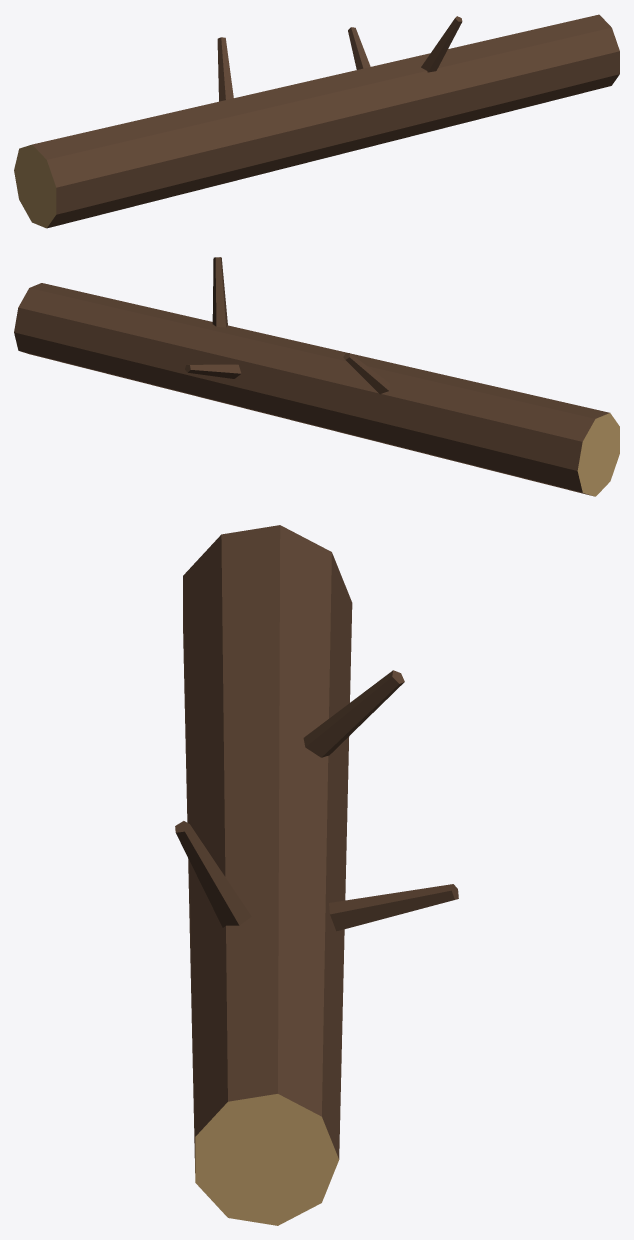
Rendered from UM_Baumstamm_Liegend.fbx.
3 views of the same model, one above another, from view 1: azimuth 30°, elevation 25°; view 2: azimuth 150°, elevation 25°; view 3: azimuth 270°, elevation 25° (orthographic). The views are drawn at different scales.
Visible parts, largest first — view 1: UM_Baumstamm_Liegend; view 2: UM_Baumstamm_Liegend; view 3: UM_Baumstamm_Liegend.
Boxes of the visible parts, x1,y1,x2,y2 form: UM_Baumstamm_Liegend: (14,14,619,228); UM_Baumstamm_Liegend: (14,257,619,496); UM_Baumstamm_Liegend: (175,525,458,1225).
Size of the model in its own units: 4.5 by 0.9461 by 0.9758.
